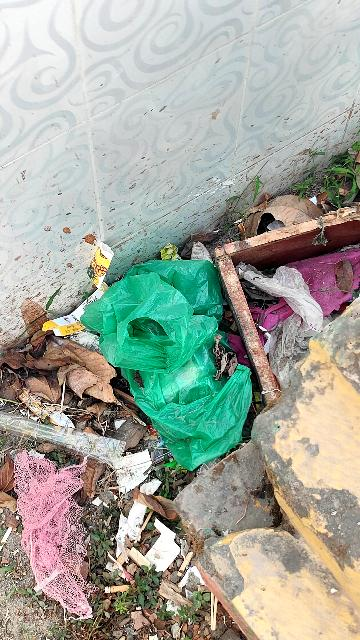polythene: (86, 248, 251, 455)
